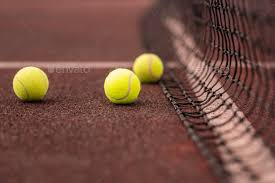tennis_ball: (103, 67, 140, 105), (12, 66, 49, 103), (132, 51, 165, 84)
